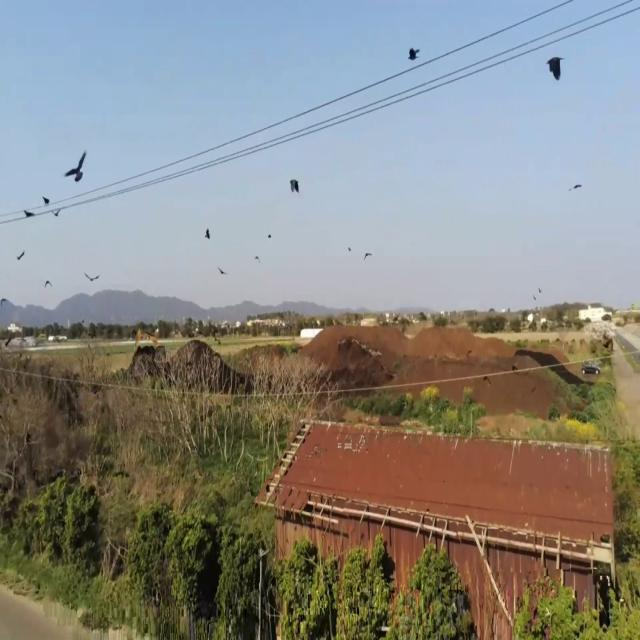bird: (65, 145, 87, 189), (547, 48, 562, 88), (85, 266, 99, 289), (408, 38, 418, 68), (290, 174, 299, 198), (24, 204, 35, 222), (16, 246, 25, 265), (363, 246, 372, 264), (52, 205, 61, 222), (42, 193, 49, 210), (218, 263, 225, 279), (205, 225, 210, 244)
